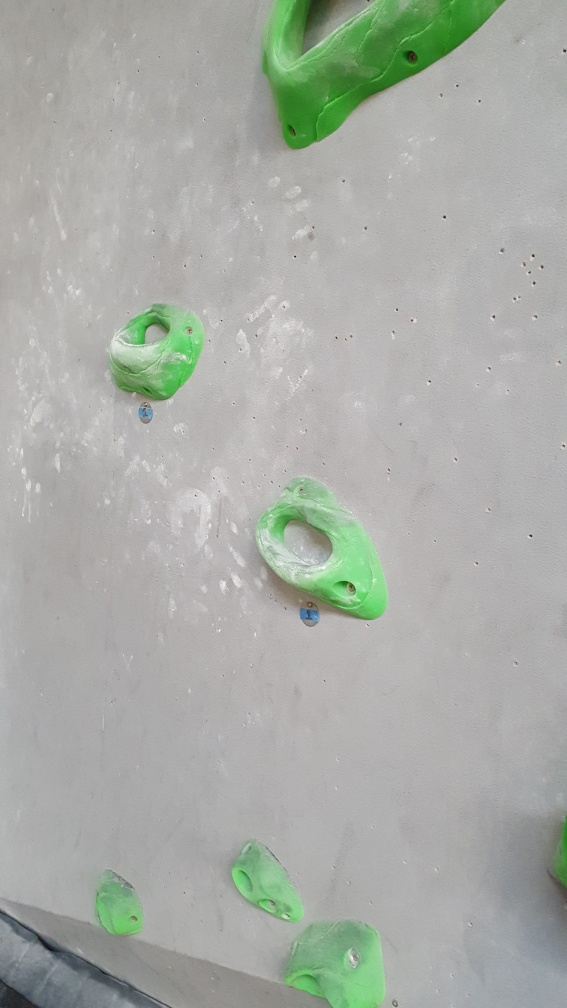Hand Start: (297, 598, 323, 629), (132, 401, 157, 428)
Pocket: (256, 1, 506, 154), (254, 475, 391, 623), (108, 301, 207, 401)
